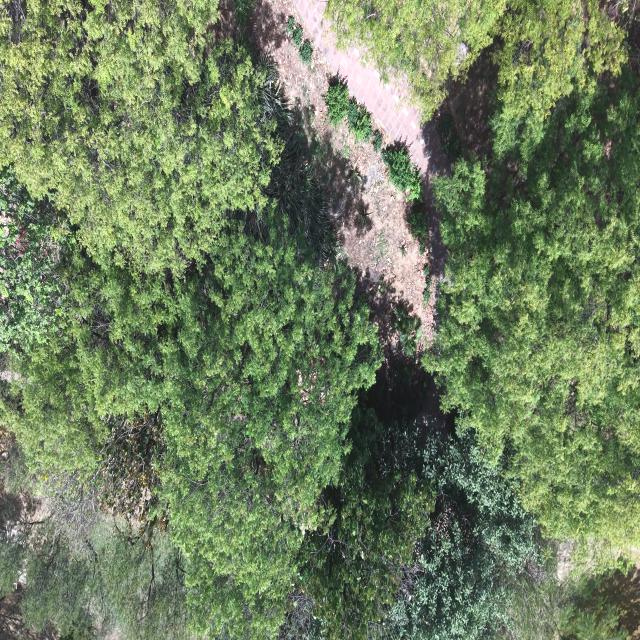DRY_AREA: (248, 0, 440, 353), (293, 0, 448, 207), (603, 562, 639, 639)
VEGETATION_TREE: (0, 0, 639, 639), (0, 2, 378, 637), (325, 0, 639, 564), (2, 222, 379, 635), (423, 69, 639, 557), (161, 229, 379, 636), (280, 401, 624, 639), (0, 1, 280, 272), (296, 407, 547, 639), (324, 0, 624, 151), (2, 250, 174, 480), (0, 456, 192, 639), (392, 424, 545, 639), (297, 406, 431, 639), (0, 511, 193, 639), (324, 0, 505, 119), (491, 0, 626, 157), (0, 509, 108, 637), (0, 169, 65, 349), (79, 407, 166, 533), (102, 529, 192, 639), (267, 128, 339, 265), (21, 527, 107, 637), (495, 532, 568, 639), (323, 79, 375, 149), (557, 588, 627, 639), (0, 492, 34, 596), (382, 144, 420, 199), (0, 428, 31, 494), (391, 304, 422, 355), (285, 16, 312, 64), (437, 112, 462, 163), (406, 198, 428, 254), (323, 80, 347, 126), (346, 98, 371, 142), (232, 0, 254, 26), (346, 163, 363, 191), (422, 264, 432, 308), (346, 98, 359, 130), (298, 39, 312, 64), (354, 207, 369, 230), (292, 24, 304, 48), (371, 130, 382, 153), (422, 282, 430, 308), (285, 15, 294, 34), (398, 242, 406, 256)
